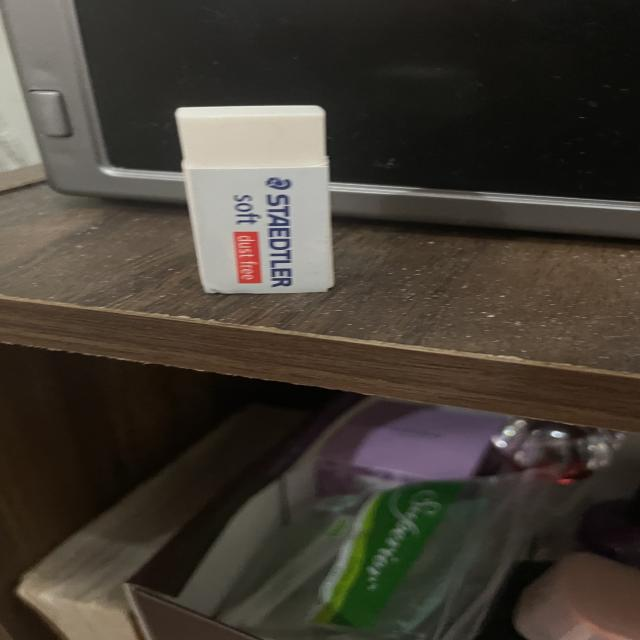eraser: (175, 105, 334, 294)
